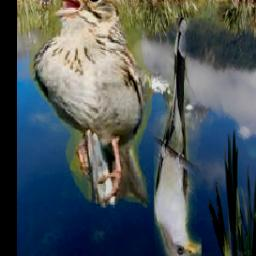Cuckoo: (155, 19, 203, 256)
Sparrow: (28, 0, 153, 208)
